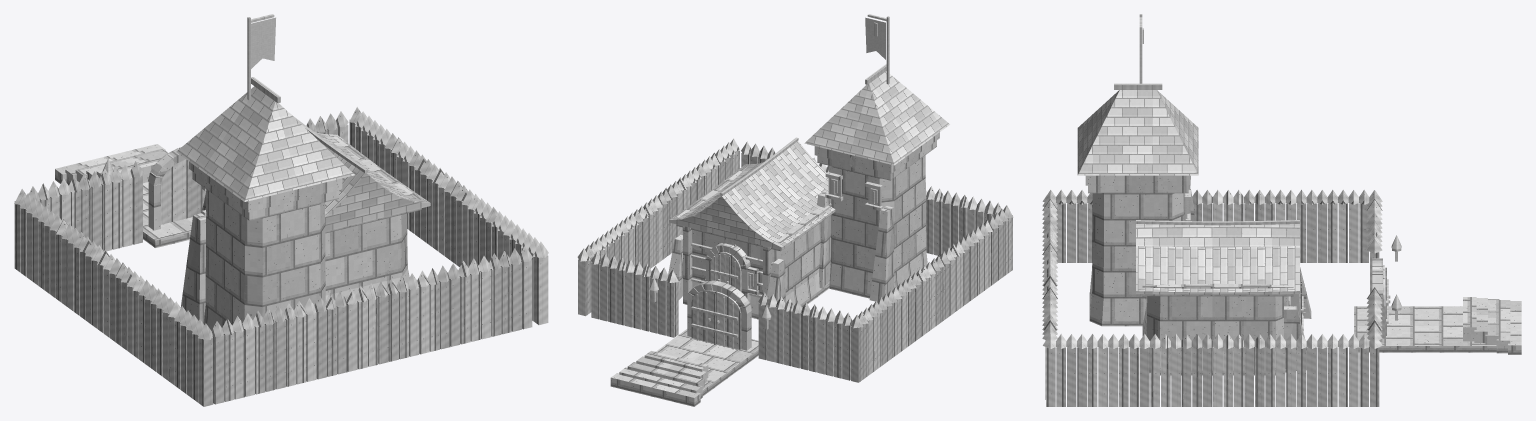
File: AshenBastion_1.obj
3 renders of one model, left to right at view 1: azimuth 30°, elevation 25°; view 2: azimuth 150°, elevation 25°; view 3: azimuth 270°, elevation 25°, orthographic. The views are drawn at different scales.
Visible parts, largest first — view 1: AshenBastion_1; view 2: AshenBastion_1; view 3: AshenBastion_1.
Boxes of the visible parts, bbox=[...] form: AshenBastion_1: bbox=[14, 14, 548, 406]; AshenBastion_1: bbox=[577, 14, 1013, 406]; AshenBastion_1: bbox=[1042, 14, 1521, 406].
Size of the model in its own units: 13 by 11.52 by 17.44.
Materials: 11 (11 with a texture image).
